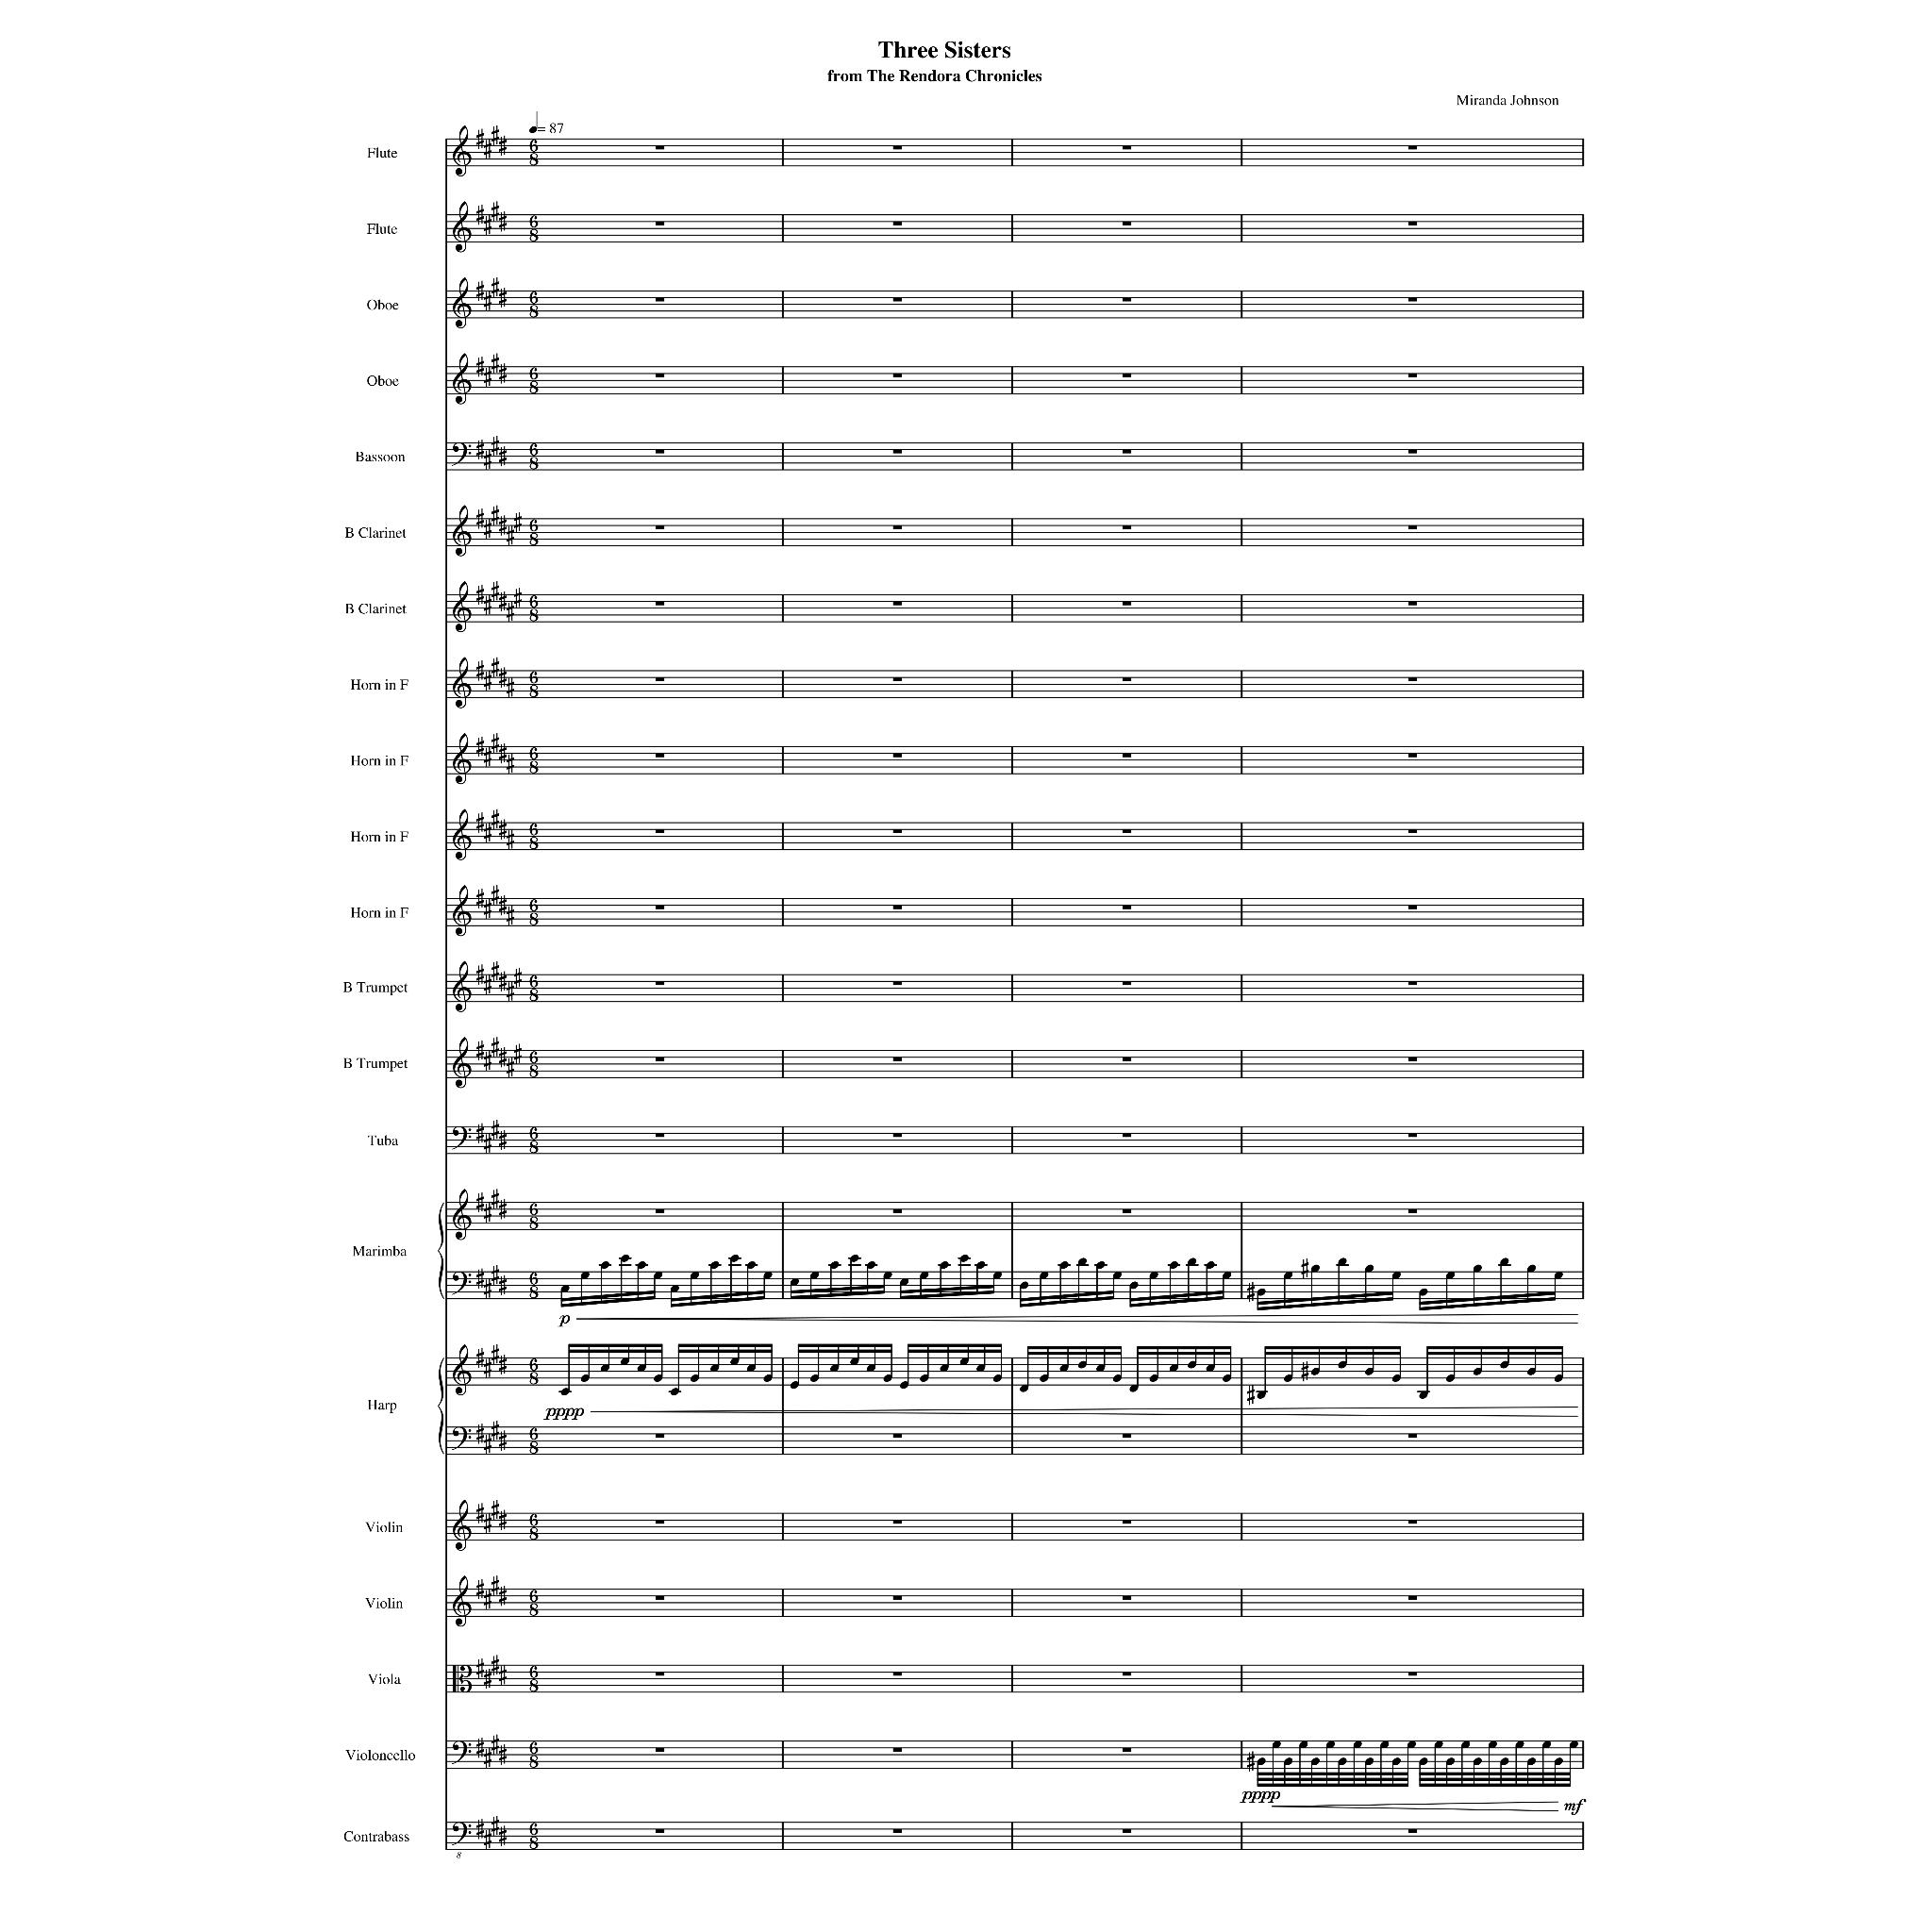brace: (437, 1357, 442, 1454), (437, 1203, 442, 1299)
fClef: (451, 1270, 471, 1295), (451, 1426, 471, 1451), (451, 1125, 471, 1150), (451, 442, 471, 467), (451, 1822, 471, 1845), (451, 1741, 471, 1764)
gClef: (451, 1575, 471, 1628), (451, 276, 471, 329), (451, 809, 471, 862), (451, 656, 471, 709), (451, 580, 471, 633), (451, 1500, 471, 1552), (451, 1345, 471, 1396), (451, 1189, 471, 1240), (451, 1037, 471, 1088), (451, 202, 471, 253), (451, 354, 471, 405), (451, 126, 471, 177), (451, 961, 471, 1012), (451, 885, 471, 936), (451, 732, 471, 784), (451, 506, 471, 557)
noteheadBlack: (1256, 1757, 1267, 1766), (1256, 1391, 1267, 1399), (1256, 1288, 1267, 1297), (1129, 1281, 1139, 1290), (1129, 1384, 1139, 1392), (1433, 1739, 1444, 1748), (1460, 1739, 1470, 1748), (1472, 1757, 1483, 1766), (1472, 1265, 1483, 1274), (1391, 1757, 1401, 1766), (1541, 1739, 1552, 1748), (1553, 1757, 1564, 1766), (789, 1277, 800, 1286), (559, 1387, 570, 1396), (959, 1357, 970, 1366), (1299, 1739, 1307, 1748), (1283, 1757, 1292, 1766), (1272, 1739, 1281, 1748), (1353, 1739, 1362, 1748), (1364, 1757, 1373, 1766), (1364, 1265, 1373, 1274), (1311, 1757, 1320, 1766), (1338, 1757, 1346, 1766), (1338, 1361, 1346, 1369), (1338, 1258, 1346, 1267), (1311, 1265, 1320, 1274), (1325, 1739, 1334, 1748), (1187, 1361, 1196, 1369), (1187, 1258, 1196, 1267), (1445, 1757, 1454, 1766), (1380, 1739, 1389, 1748), (1419, 1757, 1428, 1766), (1419, 1391, 1428, 1399), (1419, 1288, 1428, 1297), (1407, 1739, 1415, 1748), (1569, 1739, 1578, 1748), (1500, 1757, 1509, 1766), (1500, 1361, 1509, 1369), (1500, 1258, 1509, 1267), (1488, 1739, 1497, 1748), (1527, 1757, 1536, 1766), (1527, 1265, 1536, 1274), (671, 1387, 679, 1396), (729, 1357, 738, 1366), (1019, 1384, 1028, 1392), (1019, 1281, 1028, 1290), (1077, 1361, 1086, 1369), (1077, 1258, 1086, 1267), (899, 1277, 908, 1286), (849, 1357, 858, 1366), (1148, 1375, 1159, 1382), (1221, 1375, 1231, 1382), (1221, 1272, 1231, 1279), (1148, 1272, 1159, 1279), (1205, 1364, 1215, 1371), (1205, 1261, 1215, 1269), (1472, 1368, 1483, 1375), (1391, 1375, 1401, 1382), (1391, 1272, 1401, 1279), (1553, 1375, 1564, 1382), (1553, 1272, 1564, 1279), (559, 1284, 570, 1292), (789, 1382, 800, 1389), (918, 1375, 929, 1382), (918, 1272, 929, 1279), (975, 1364, 985, 1371), (975, 1261, 985, 1269), (959, 1254, 970, 1261), (1058, 1364, 1069, 1371), (1058, 1261, 1069, 1269), (809, 1375, 819, 1382), (809, 1272, 819, 1279), (865, 1364, 876, 1371), (865, 1261, 876, 1269), (1283, 1375, 1292, 1382), (1283, 1272, 1292, 1279), (1095, 1261, 1104, 1269), (1095, 1364, 1104, 1371), (1364, 1368, 1373, 1375), (1311, 1368, 1320, 1375), (1169, 1364, 1178, 1371), (1169, 1261, 1178, 1269), (1113, 1272, 1122, 1279), (1113, 1375, 1122, 1382), (1445, 1375, 1454, 1382), (1445, 1272, 1454, 1279), (1527, 1368, 1536, 1375), (1516, 1739, 1523, 1748), (621, 1357, 628, 1366), (600, 1364, 609, 1371), (653, 1375, 662, 1382), (653, 1272, 662, 1279), (600, 1261, 609, 1269), (637, 1364, 646, 1371), (637, 1261, 646, 1269), (763, 1375, 771, 1382), (763, 1272, 771, 1279), (747, 1364, 755, 1371), (747, 1261, 755, 1269), (690, 1375, 699, 1382), (690, 1272, 699, 1279), (671, 1284, 679, 1292), (729, 1254, 738, 1261), (709, 1364, 718, 1371), (709, 1261, 718, 1269), (993, 1375, 1001, 1382), (993, 1272, 1001, 1279), (939, 1364, 948, 1371), (939, 1261, 948, 1269), (1039, 1375, 1047, 1382), (1039, 1272, 1047, 1279), (899, 1382, 908, 1389), (883, 1375, 892, 1382), (883, 1272, 892, 1279), (830, 1261, 839, 1269), (830, 1364, 839, 1371), (849, 1254, 858, 1261), (621, 1254, 628, 1261), (580, 1375, 587, 1382), (580, 1272, 587, 1279)
restWhole: (892, 1056, 902, 1062), (892, 1208, 902, 1214), (892, 1433, 902, 1438), (892, 1596, 902, 1601), (892, 145, 902, 150), (892, 221, 902, 226), (892, 297, 902, 303), (892, 373, 902, 379), (892, 602, 902, 607), (655, 145, 663, 150), (1122, 1056, 1131, 1062), (1122, 1208, 1131, 1214), (1122, 1433, 1131, 1438), (1122, 1596, 1131, 1601), (1122, 373, 1131, 379), (1122, 145, 1131, 150), (1122, 221, 1131, 226), (1122, 297, 1131, 303), (1122, 602, 1131, 607), (655, 1596, 663, 1601), (655, 1433, 663, 1438), (1408, 221, 1417, 226), (1408, 602, 1417, 607), (1408, 373, 1417, 379), (1408, 297, 1417, 303), (1408, 145, 1417, 150), (655, 602, 663, 607), (655, 373, 663, 379), (655, 297, 663, 303), (655, 221, 663, 226), (655, 1208, 663, 1214), (655, 1056, 663, 1062), (1408, 1056, 1417, 1062), (1408, 1596, 1417, 1601), (1408, 1433, 1417, 1438), (1408, 1208, 1417, 1214), (892, 906, 902, 909), (892, 982, 902, 985), (892, 1134, 902, 1138), (892, 830, 902, 833), (892, 1520, 902, 1523), (892, 1672, 902, 1675), (892, 1748, 902, 1752), (892, 449, 902, 453), (892, 525, 902, 529), (892, 678, 902, 681), (892, 754, 902, 757), (892, 1829, 902, 1833), (1122, 1829, 1131, 1833), (1122, 1748, 1131, 1752), (1122, 830, 1131, 833), (1122, 906, 1131, 909), (1122, 982, 1131, 985), (1122, 1134, 1131, 1138), (1122, 1520, 1131, 1523), (1122, 1672, 1131, 1675), (1122, 449, 1131, 453), (1122, 525, 1131, 529), (1122, 678, 1131, 681), (1122, 754, 1131, 757), (655, 1748, 663, 1752), (655, 1672, 663, 1675), (655, 1520, 663, 1523), (1408, 982, 1417, 985), (1408, 906, 1417, 909), (1408, 830, 1417, 833), (1408, 754, 1417, 757), (1408, 678, 1417, 681), (1408, 525, 1417, 529), (1408, 449, 1417, 453), (655, 1829, 663, 1833), (655, 678, 663, 681), (655, 525, 663, 529), (655, 449, 663, 453), (655, 1134, 663, 1138), (655, 982, 663, 985), (655, 906, 663, 909), (655, 830, 663, 833), (655, 754, 663, 757), (1408, 1829, 1417, 1833), (1408, 1672, 1417, 1675), (1408, 1520, 1417, 1523), (1408, 1134, 1417, 1138)
